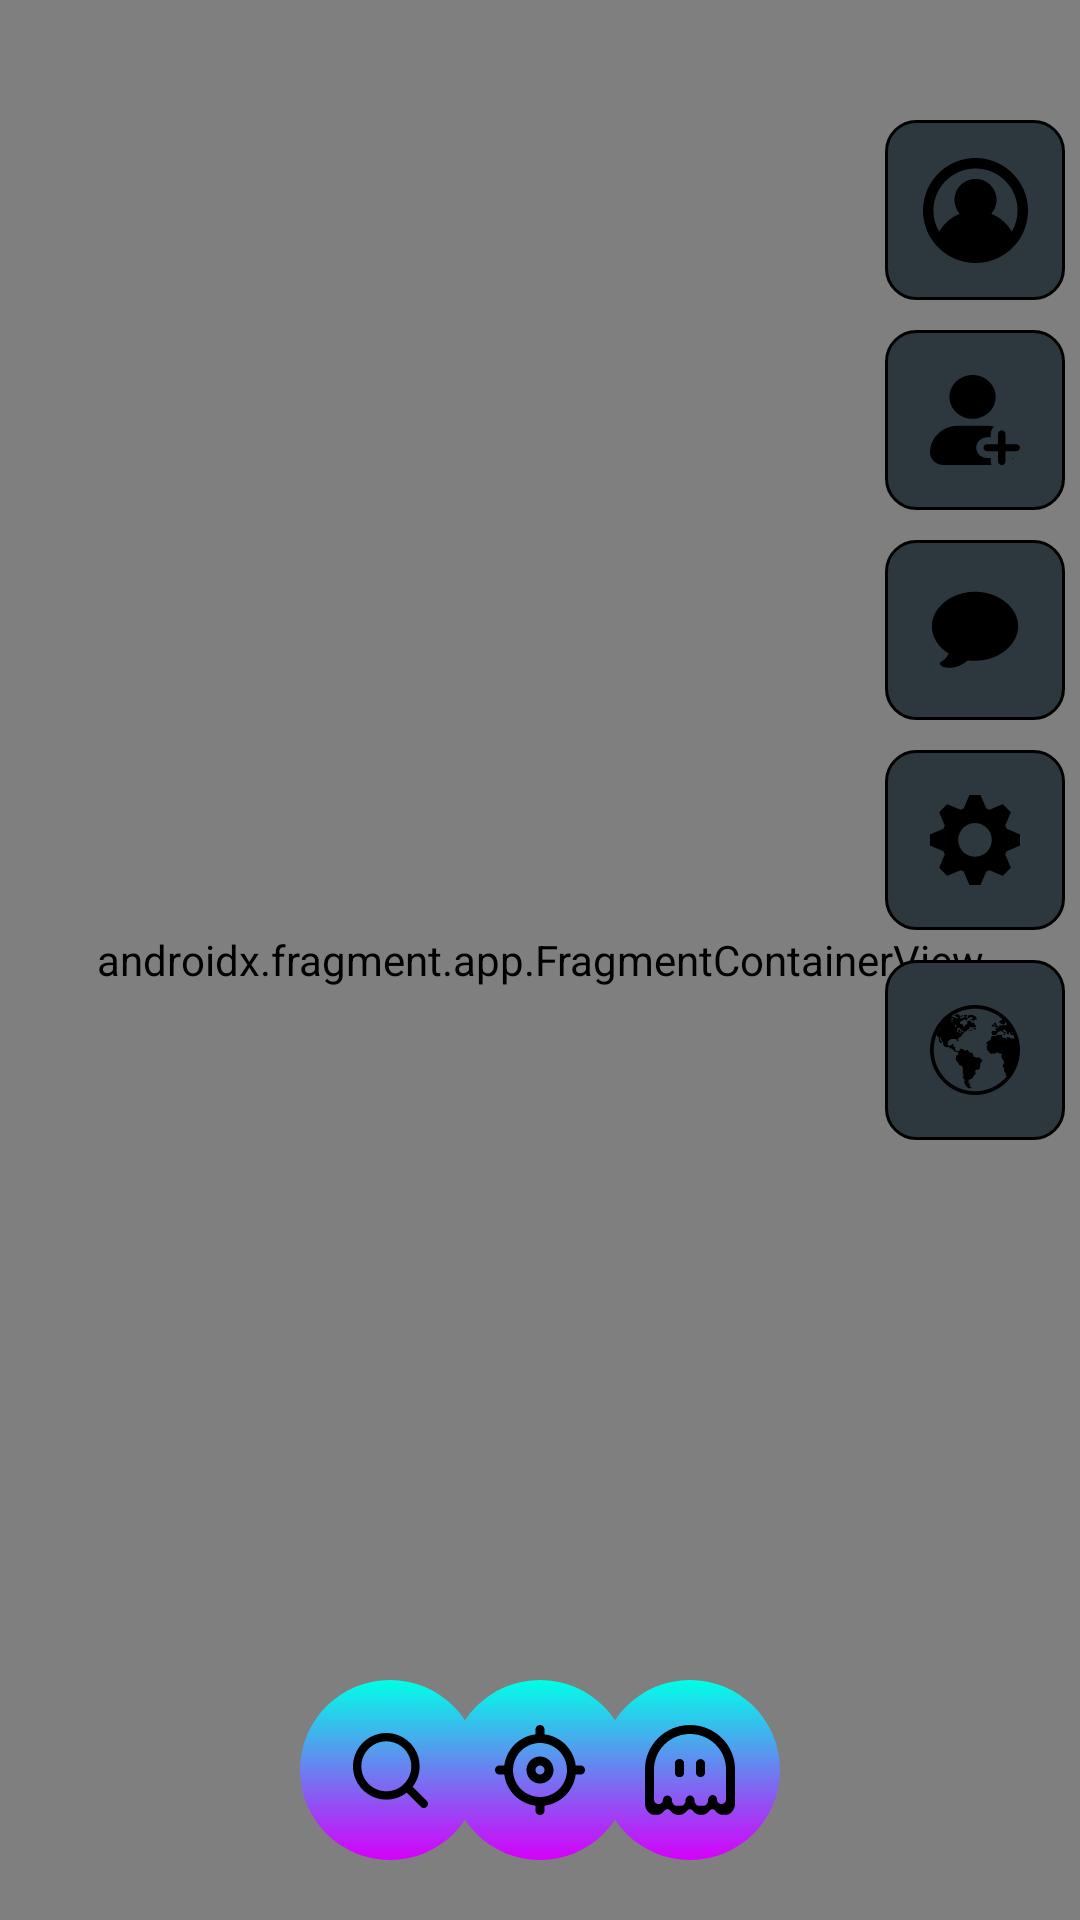

Point at icon controls on the screen. Image size 1080px×1920px, points as (x,y).
earth: (975,1050)
ghost: (690,1770)
invite: (975,420)
message: (975,630)
profile: (975,210)
search: (390,1770)
setting: (975,840)
